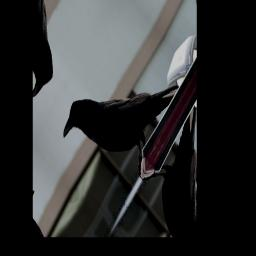Crow: (57, 14, 187, 210)
